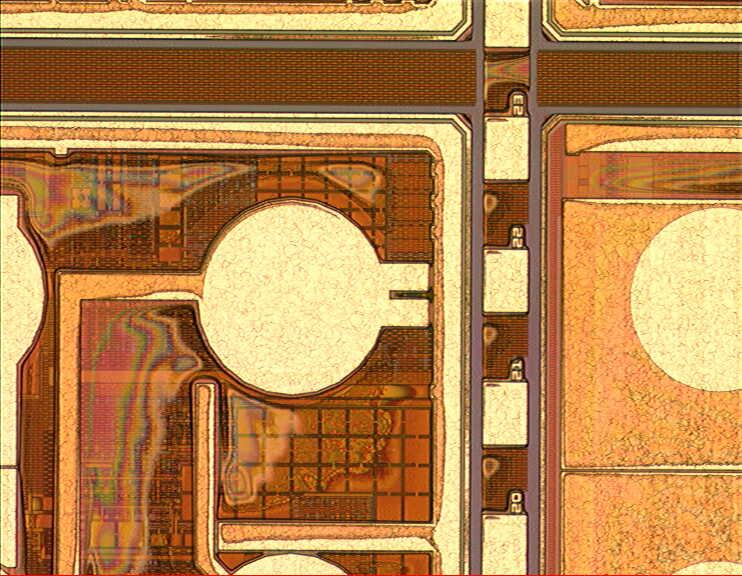COATING BAD: (1, 1, 742, 576)
